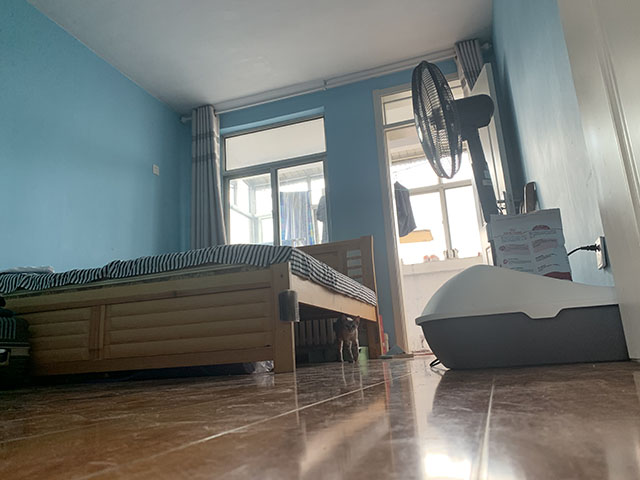bed: (1, 233, 384, 380)
slippers: (377, 344, 415, 360)
wire: (428, 357, 442, 369)
